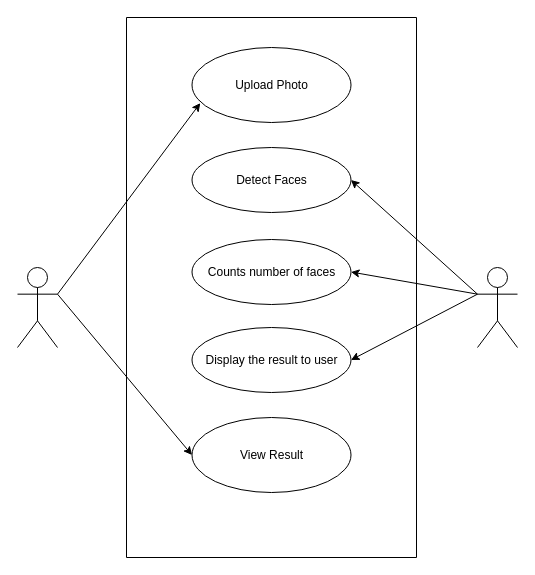
This 535x575 diagram has some shape labels left out. Here are the shapes that lost their labels. From the top down, the centre of each, then its label:
At pixel 37 307: "Users".
At pixel 497 307: "System".
